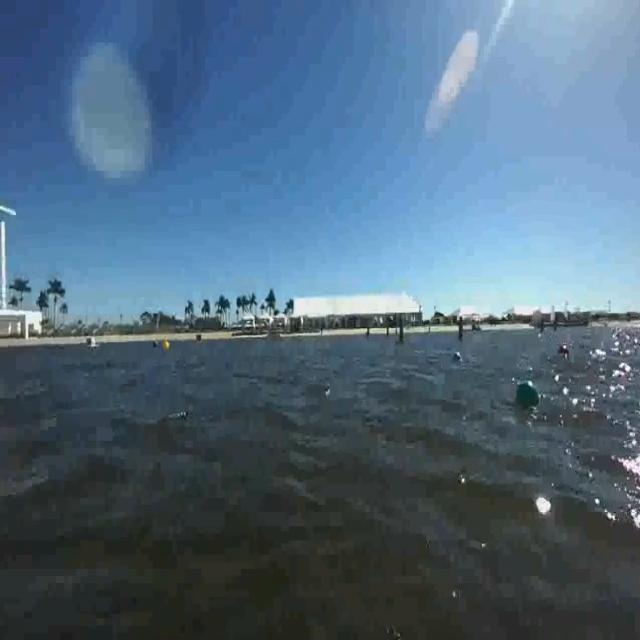green-buoy: (514, 379, 538, 406)
yellow-buoy: (162, 340, 170, 353)
